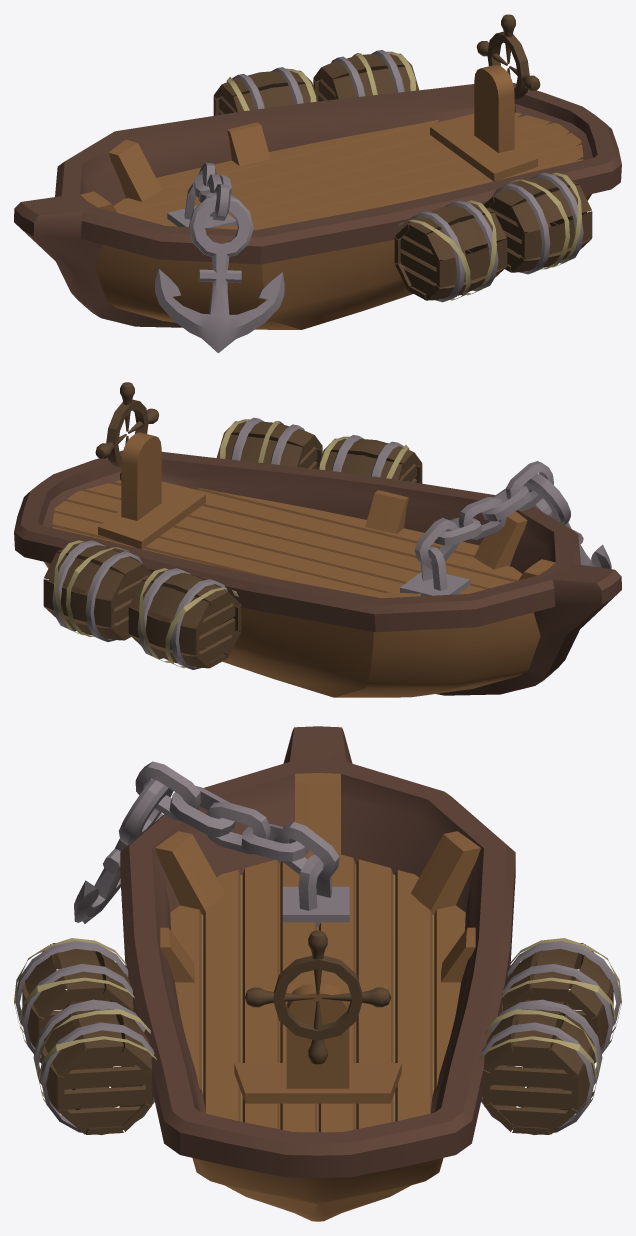
The model's file is boat.obj.
3 renders of one model, top to bottom at view 1: azimuth 30°, elevation 25°; view 2: azimuth 150°, elevation 25°; view 3: azimuth 270°, elevation 25°, orthographic. The views are drawn at different scales.
Parts seen in each view (by area): view 1: Ship_Small; view 2: Ship_Small; view 3: Ship_Small.
Part boxes in pixels (x1,y1,x2,y2): Ship_Small: [14, 14, 621, 353]; Ship_Small: [14, 382, 621, 697]; Ship_Small: [14, 726, 621, 1221].
Size of the model in its own units: 5.15 by 1.99 by 3.6.
